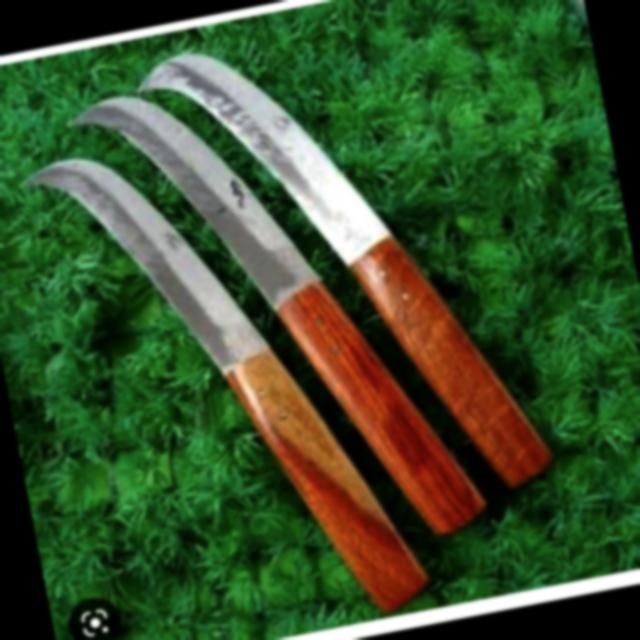knife: (1, 39, 599, 627)
